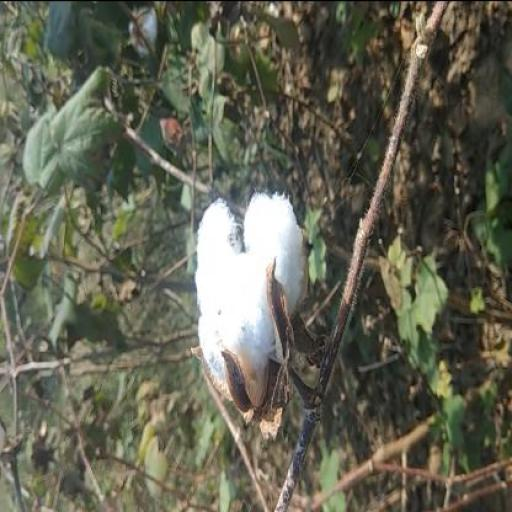cotton_ready: (173, 196, 328, 396)
